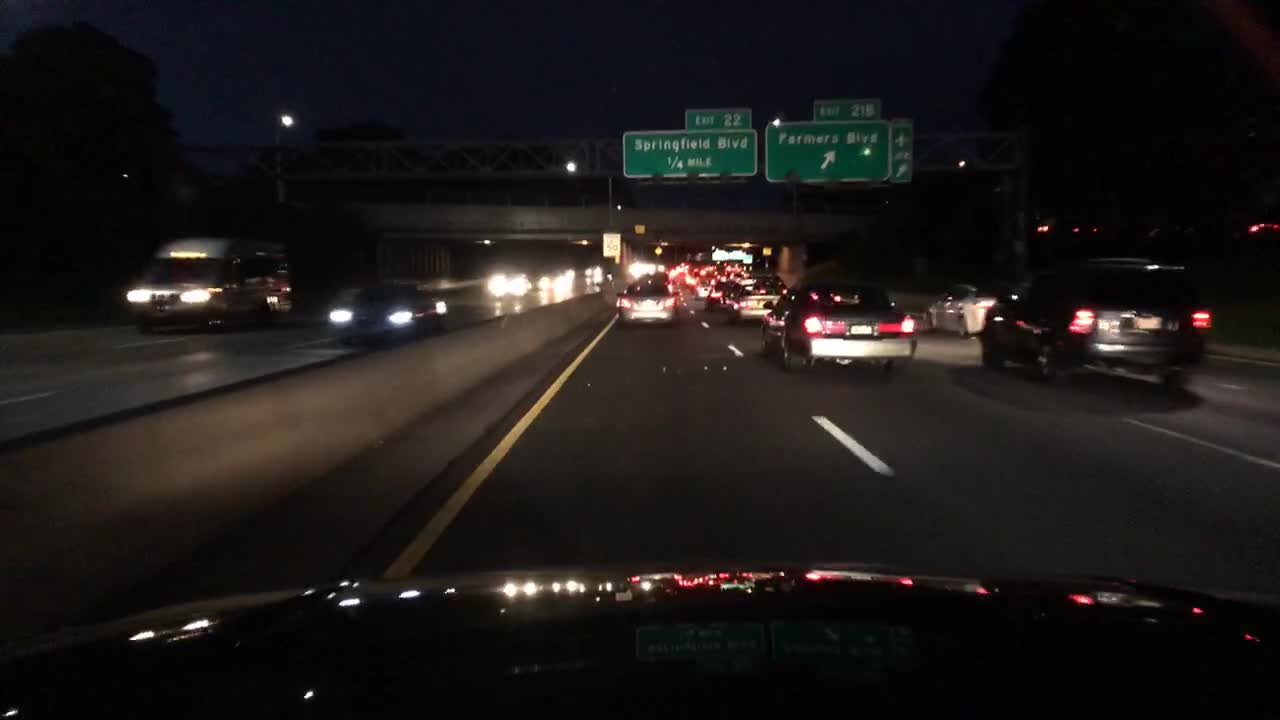car: (977, 254, 1213, 395), (758, 272, 920, 379), (123, 232, 295, 328), (326, 278, 446, 340), (919, 282, 999, 339), (720, 264, 791, 324), (613, 267, 681, 325), (718, 260, 758, 309), (485, 264, 534, 297), (534, 264, 576, 291), (694, 263, 721, 297), (684, 263, 706, 287), (583, 264, 607, 282)
traffic sign: (766, 119, 914, 180), (624, 128, 757, 178), (815, 95, 883, 122), (684, 107, 752, 131), (601, 233, 622, 257), (635, 223, 648, 235), (653, 244, 663, 256), (763, 244, 773, 256)
